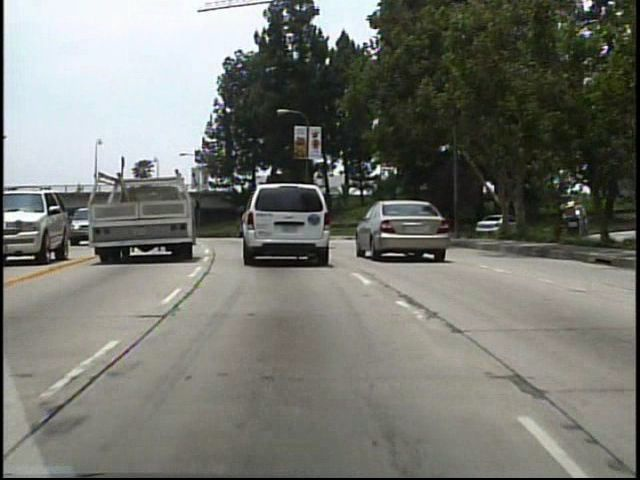person: (74, 179, 85, 199)
